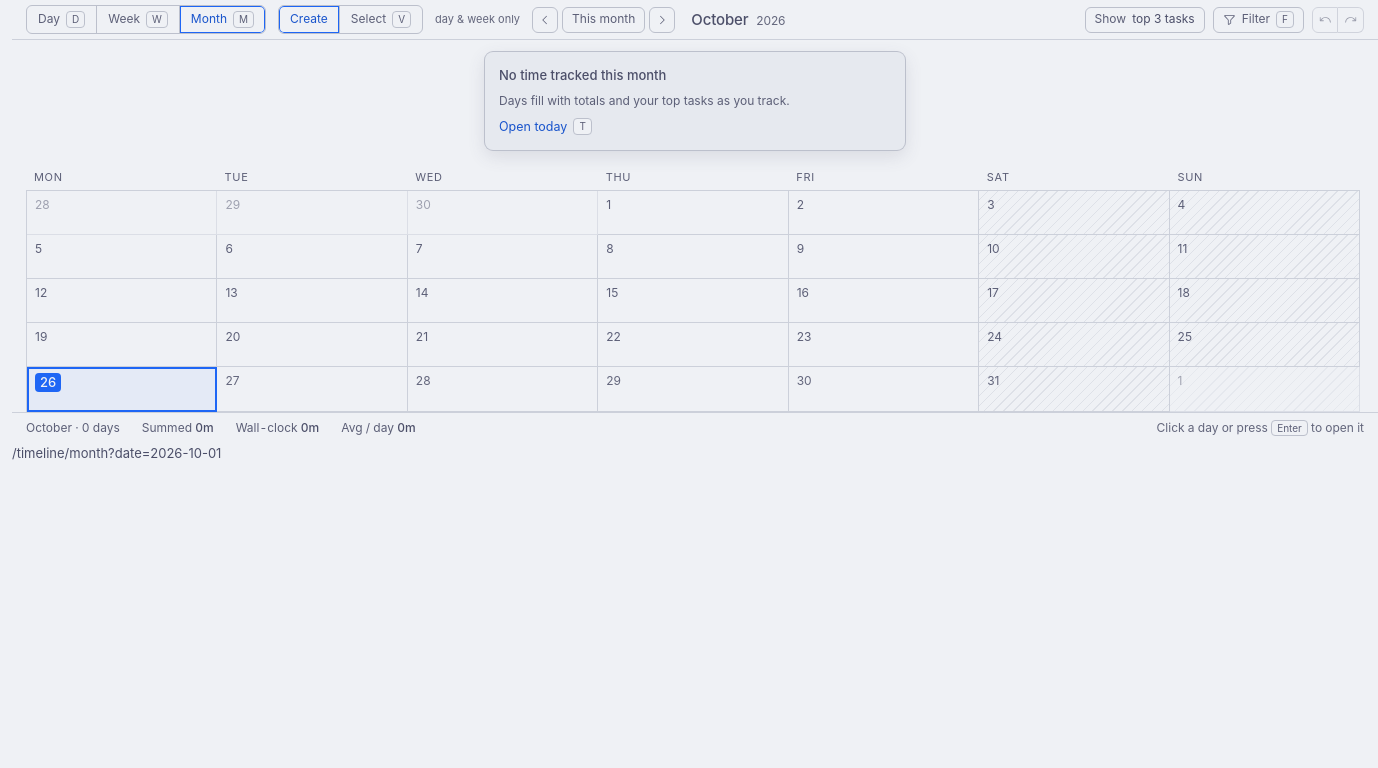
Scenario: empty month › sits above the grid and leaves every day cell clickable
The image size is (1378, 768).
expect the element with test id "empty-month" shows "No time tracked this month": met, box x1=499 y1=67 x2=666 y2=83
Click the cell with test id "month-cell" showing "8" at (694, 257), box x1=598 y1=235 x2=789 y2=279
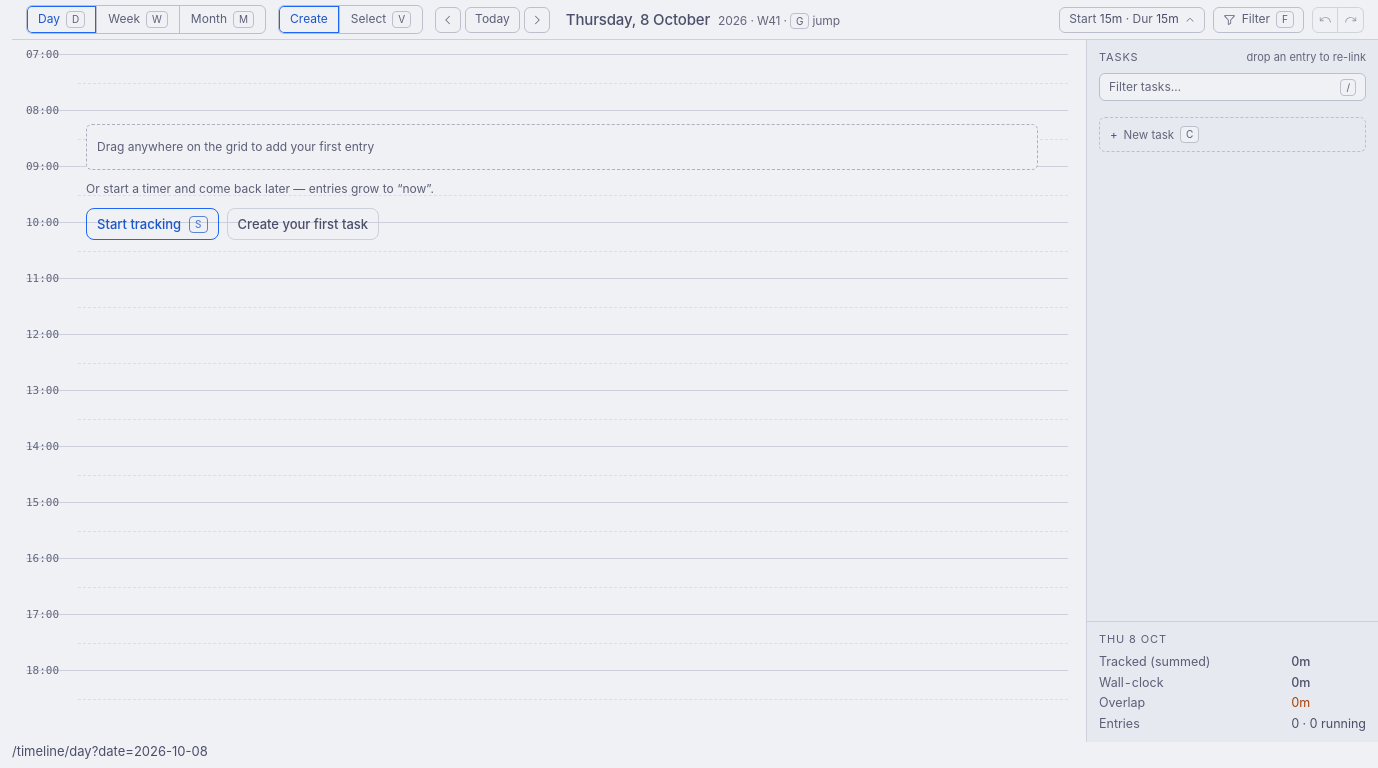
expect the text with test id "location" shows "/timeline/day": met, box x1=12 y1=743 x2=208 y2=759
